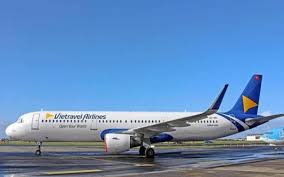maybay_dansu: (11, 82, 284, 164)
